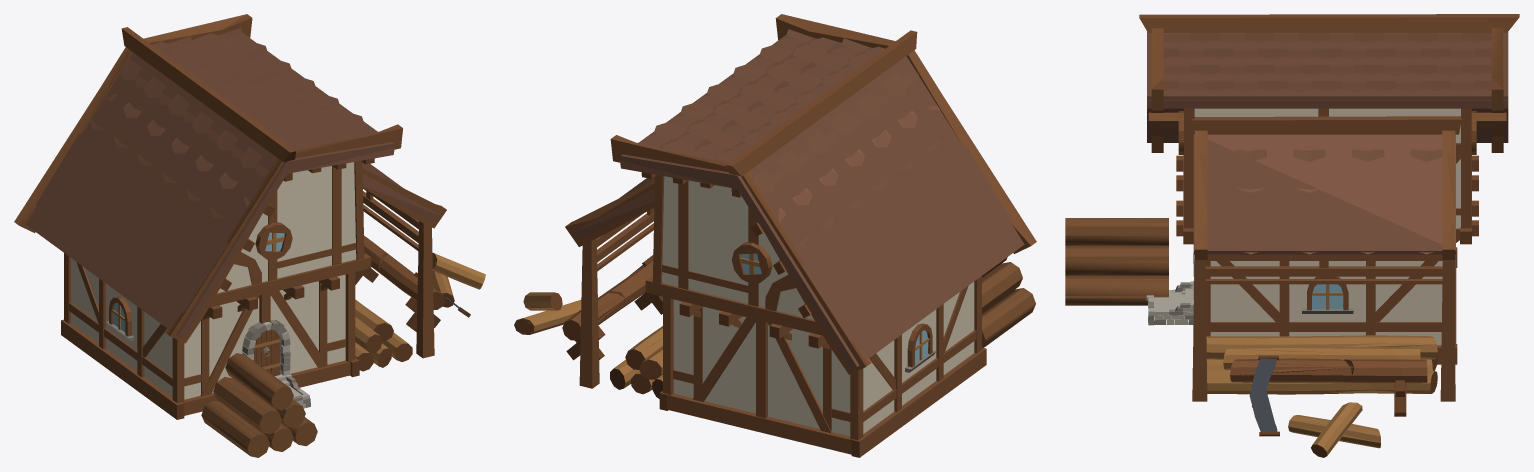
Rendered from sawmill.glb.
The picture shows the model from 3 angles, left to right: view 1: azimuth 30°, elevation 25°; view 2: azimuth 150°, elevation 25°; view 3: azimuth 270°, elevation 25°; orthographic projection. The views are drawn at different scales.
Parts seen in each view (by area): view 1: building-sawmill-far, building-sawmill; view 2: building-sawmill-far, building-sawmill; view 3: building-sawmill, building-sawmill-far.
Boxes of the visible parts, x1=… form: building-sawmill-far: x1=14, y1=14, x2=458, y2=455; building-sawmill: x1=19, y1=14, x2=485, y2=457; building-sawmill-far: x1=522, y1=14, x2=1036, y2=456; building-sawmill: x1=514, y1=14, x2=1035, y2=457; building-sawmill: x1=1065, y1=14, x2=1519, y2=457; building-sawmill-far: x1=1065, y1=17, x2=1519, y2=455.
Size of the model in its own units: 5.16 by 3.36 by 4.6.
